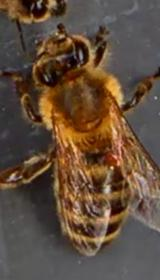varroa_mite: (103, 146, 122, 170)
